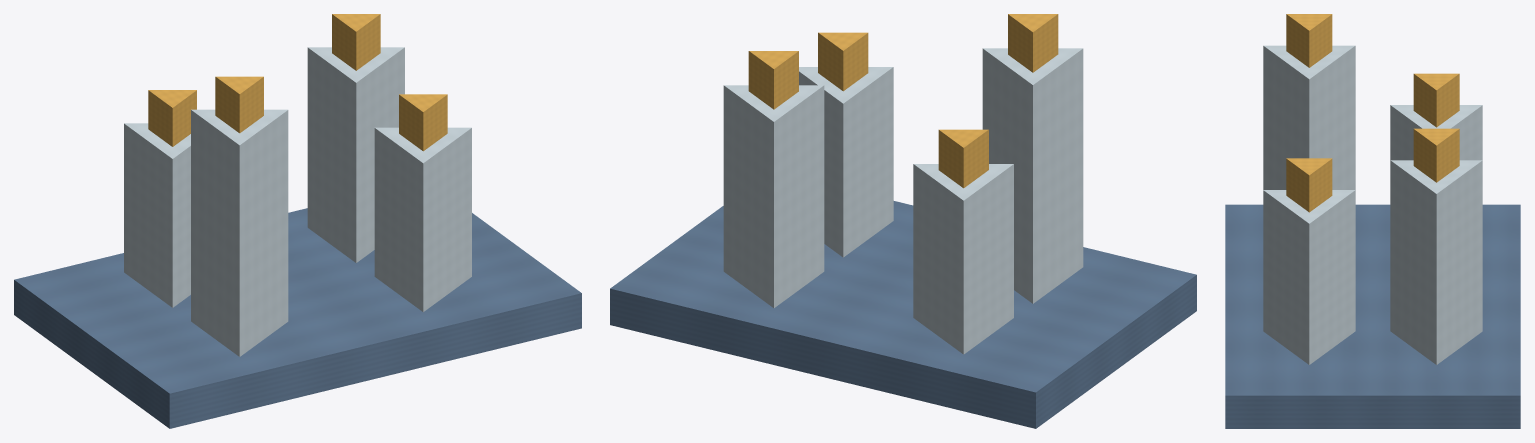
The model's file is atlas100-s054-a04.lod2.glb.
3 renders of one model, left to right at view 1: azimuth 30°, elevation 25°; view 2: azimuth 150°, elevation 25°; view 3: azimuth 270°, elevation 25°, orthographic. The views are drawn at different scales.
Visible parts, largest first — view 1: atlas100-s054-a04:part-000, atlas100-s054-a04:part-007, atlas100-s054-a04:part-010, atlas100-s054-a04:part-004, atlas100-s054-a04:part-001, atlas100-s054-a04:part-008, atlas100-s054-a04:part-011, atlas100-s054-a04:part-005, atlas100-s054-a04:part-002; view 2: atlas100-s054-a04:part-000, atlas100-s054-a04:part-004, atlas100-s054-a04:part-007, atlas100-s054-a04:part-001, atlas100-s054-a04:part-010, atlas100-s054-a04:part-002, atlas100-s054-a04:part-011, atlas100-s054-a04:part-008, atlas100-s054-a04:part-005; view 3: atlas100-s054-a04:part-000, atlas100-s054-a04:part-004, atlas100-s054-a04:part-010, atlas100-s054-a04:part-007, atlas100-s054-a04:part-001, atlas100-s054-a04:part-005, atlas100-s054-a04:part-011, atlas100-s054-a04:part-002, atlas100-s054-a04:part-008.
Part boxes in pixels (<box>): atlas100-s054-a04:part-000: <box>14,208,581,428</box>; atlas100-s054-a04:part-007: <box>191,109,288,356</box>; atlas100-s054-a04:part-010: <box>374,127,471,312</box>; atlas100-s054-a04:part-004: <box>307,47,404,262</box>; atlas100-s054-a04:part-001: <box>124,123,190,307</box>; atlas100-s054-a04:part-008: <box>215,76,263,133</box>; atlas100-s054-a04:part-011: <box>399,94,447,151</box>; atlas100-s054-a04:part-005: <box>332,14,380,70</box>; atlas100-s054-a04:part-002: <box>148,90,196,146</box>; atlas100-s054-a04:part-000: <box>610,201,1196,428</box>; atlas100-s054-a04:part-004: <box>723,85,824,307</box>; atlas100-s054-a04:part-007: <box>982,48,1083,303</box>; atlas100-s054-a04:part-001: <box>913,164,1013,354</box>; atlas100-s054-a04:part-010: <box>799,67,893,257</box>; atlas100-s054-a04:part-002: <box>938,129,988,188</box>; atlas100-s054-a04:part-011: <box>818,32,868,91</box>; atlas100-s054-a04:part-008: <box>1008,14,1058,72</box>; atlas100-s054-a04:part-005: <box>748,51,798,109</box>; atlas100-s054-a04:part-000: <box>1225,204,1520,428</box>; atlas100-s054-a04:part-004: <box>1390,160,1482,364</box>; atlas100-s054-a04:part-010: <box>1263,190,1355,364</box>; atlas100-s054-a04:part-007: <box>1263,45,1355,189</box>; atlas100-s054-a04:part-001: <box>1390,105,1482,160</box>; atlas100-s054-a04:part-005: <box>1413,128,1459,182</box>; atlas100-s054-a04:part-011: <box>1286,158,1332,212</box>; atlas100-s054-a04:part-002: <box>1413,73,1459,127</box>; atlas100-s054-a04:part-008: <box>1286,14,1332,67</box>.
Size of the model in its own units: 1.18 by 0.7804 by 0.7697.
Materials: 3 (3 with a texture image).
